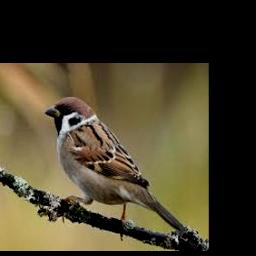Sparrow: (44, 97, 185, 238)
